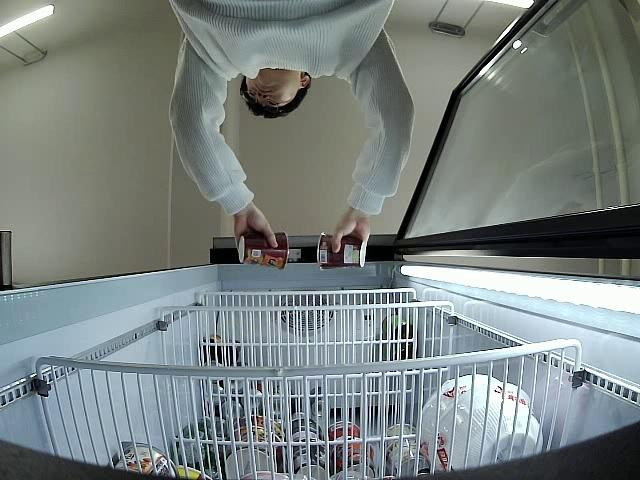00_hand: (234, 209, 277, 249), (331, 213, 369, 253)
06_nuguri_S: (237, 230, 289, 271), (315, 231, 367, 270)
